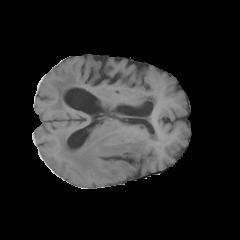glioma: (52, 122, 169, 181)
